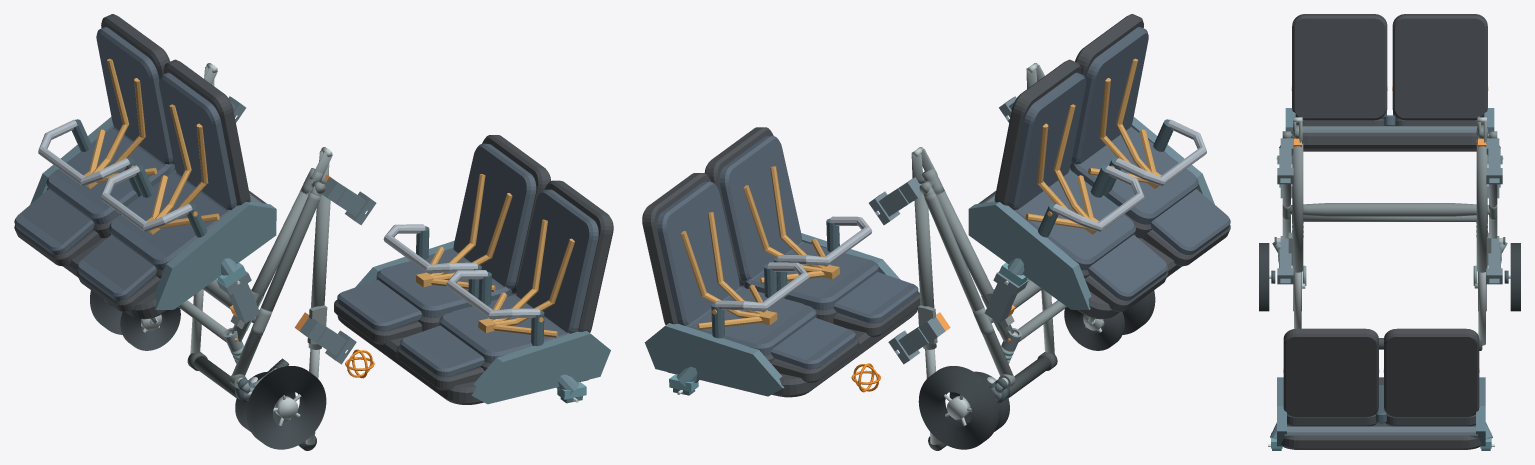
Rendered from D26_w650_state3_wheel_S.glb.
The picture shows the model from 3 angles, left to right: view 1: azimuth 30°, elevation 25°; view 2: azimuth 150°, elevation 25°; view 3: azimuth 270°, elevation 25°; orthographic projection. The views are drawn at different scales.
Visible parts, largest first — view 1: D26_Upper, D26_Lower, RL_tire.011, V46_rear_leg_-1.011, main_lower_-1.012, main_upper_-1.012, FR_tire.011, Universal_Cabin_Receiver_H_-1, Universal_Cabin_Receiver_M_-1, Universal_Cabin_Receiver_L_-1, RR_tire.011, round_handle.013 (+2 smaller); view 2: D26_Upper, D26_Lower, RR_tire.011, V46_rear_leg_1.011, main_lower_1.012, main_upper_1.012, FL_tire.011, Universal_Cabin_Receiver_H_1, Universal_Cabin_Receiver_M_1, Universal_Cabin_Receiver_L_1, RL_tire.011, round_handle.013 (+2 smaller); view 3: D26_Lower, D26_Upper, V46_rearbar.011, main_upper_1.012, main_upper_-1.012, front_fixed_round_tube.011, RL_tire.011, RR_tire.011, Universal_Cabin_Receiver_M_-1, Universal_Cabin_Receiver_M_1, Universal_Cabin_Receiver_H_1, Universal_Cabin_Receiver_H_-1 (+5 smaller).
Part boxes in pixels (x1,y1,x2,y2): D26_Upper: (334,135,613,404); D26_Lower: (14,14,276,319); RL_tire.011: (246,366,326,449); V46_rear_leg_-1.011: (232,192,320,375); main_lower_-1.012: (231,188,312,341); main_upper_-1.012: (308,184,330,349); FR_tire.011: (120,307,180,350); Universal_Cabin_Receiver_H_-1: (299,317,356,364); Universal_Cabin_Receiver_M_-1: (322,177,376,225); Universal_Cabin_Receiver_L_-1: (216,271,260,323); RR_tire.011: (90,290,143,334); round_handle.013: (194,356,315,449); D26_Upper: (642,127,920,397); D26_Lower: (968,14,1230,319); RR_tire.011: (918,366,998,449); V46_rear_leg_1.011: (924,192,1012,375); main_lower_1.012: (933,189,1013,341); main_upper_1.012: (914,183,936,349); FL_tire.011: (1064,307,1124,350); Universal_Cabin_Receiver_H_1: (888,317,945,364); Universal_Cabin_Receiver_M_1: (869,177,922,224); Universal_Cabin_Receiver_L_1: (984,272,1028,323); RL_tire.011: (1101,290,1155,334); round_handle.013: (929,356,1051,449); D26_Lower: (1285,14,1494,151); D26_Upper: (1277,328,1485,449); V46_rearbar.011: (1289,203,1490,216); main_upper_1.012: (1476,143,1487,272); main_upper_-1.012: (1292,143,1303,272); front_fixed_round_tube.011: (1303,215,1476,221); RL_tire.011: (1259,243,1269,311); RR_tire.011: (1510,243,1520,311); Universal_Cabin_Receiver_M_-1: (1277,138,1293,184); Universal_Cabin_Receiver_M_1: (1486,138,1502,184); Universal_Cabin_Receiver_H_1: (1486,238,1502,284); Universal_Cabin_Receiver_H_-1: (1277,238,1293,284).
Bounding box in the file's own units: 1.32 × 0.9843 × 0.766.
